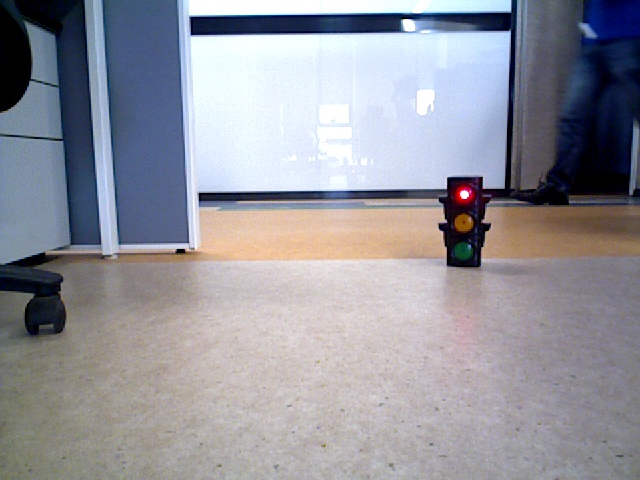red: (445, 181, 483, 267)
